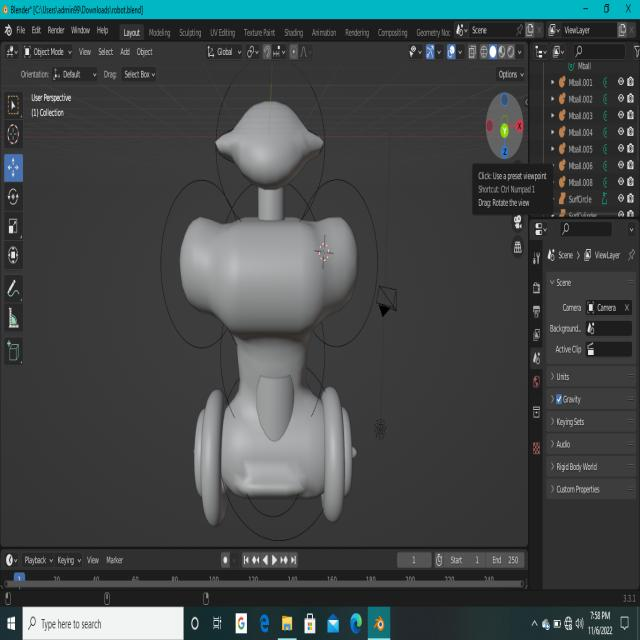man: (166, 85, 394, 540)
